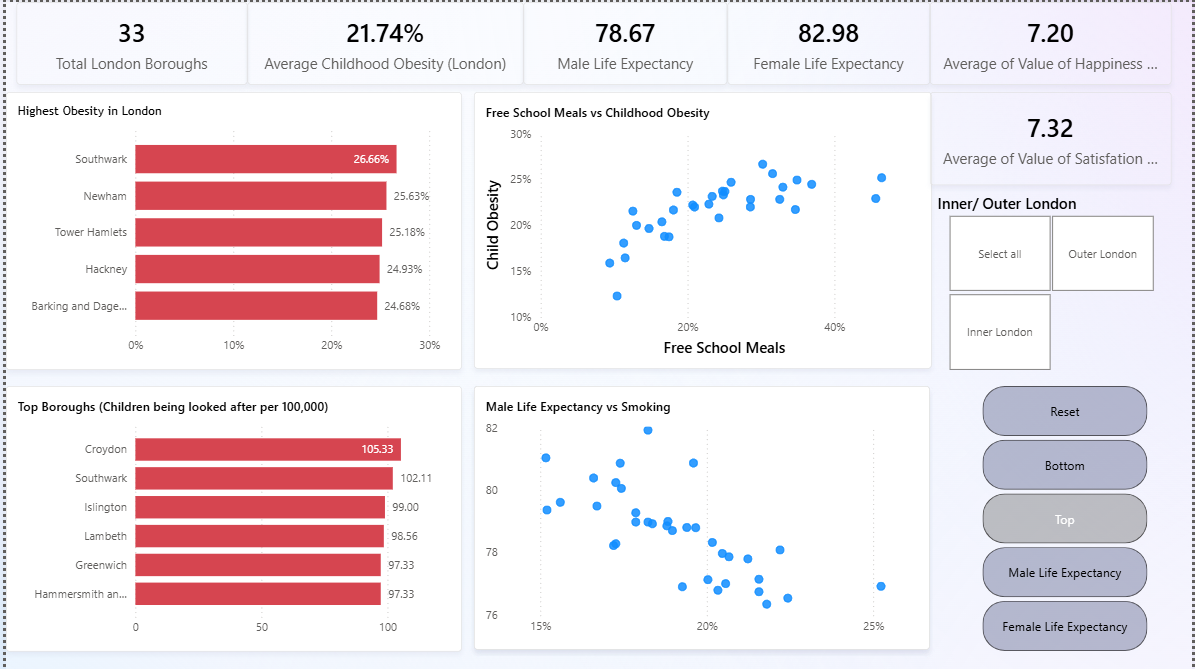

This screenshot's page, from the dashboard's own definition file:
{"tool":"powerbi","page":{"name":"DASHBOARD","canvas":[1280,720],"ordinal":1},"visuals":[{"type":"card","fields":{"Values":["Council Table.Total London Boroughs"]},"box":[11.3,0,249.4,89.1],"z":0},{"type":"card","fields":{"Values":["Main Obesity Table.Average Childhood Obesity (London)"]},"box":[260.7,0,297.9,89.1],"z":1000},{"type":"card","fields":{"Values":["Main Male Life Expectancy.Male Life Expectancy"]},"box":[558.6,0,220.2,89.1],"z":2000},{"type":"card","fields":{"Values":["Main Female Life Expectancy.Female Life Expectancy"]},"box":[778.8,0,218.6,89.1],"z":3000},{"type":"clusteredBarChart","title":"Highest Obesity in London","fields":{"Category":["Council Table.Area name"],"Y":["Avg(Main Obesity Table.Percentage of Obesity)"]},"box":[0,97.1,491.9,299.9],"z":4000},{"type":"scatterChart","title":"Free School Meals vs  Childhood Obesity ","fields":{"Category":["Council Table.Area name"],"X":["Avg(% pupil eligible and on FCM.Percentage)"],"Y":["Main Obesity Table.Average Childhood Obesity (London)"]},"box":[505.9,97.5,493.7,298.7],"z":7000},{"type":"slicer","fields":{"Values":["Council Table.Inner/ Outer London"]},"box":[997.6,205.2,260.1,193],"z":8000},{"type":"card","fields":{"Values":["Avg(Life Satisfaction Score.Value of Satisfation Score)"]},"box":[997.4,97.2,260.7,100.4],"z":10000},{"type":"clusteredBarChart","title":"Top Boroughs (Children being looked after per 100,000)","fields":{"Category":["Rates of Children Looked After.Area name"],"Y":["Avg(Rates of Children Looked After.Children Looked after Per 100,000)"]},"box":[0,414.5,492.2,286.6],"z":11000},{"type":"card","fields":{"Values":["Avg(Happiness Score.Value of Happiness out of 10)"]},"box":[997.4,0,260.7,89.1],"z":13000},{"type":"scatterChart","title":"Female Life Expectancy vs Smoking","fields":{"Category":["Council Table.Area name"],"X":["Avg(% of Cigarette Smokers.Percentage of Smokers)"],"Y":["Main Female Life Expectancy.Female Life Expectancy"]},"box":[505.2,414.5,492.2,285],"z":14000},{"type":"scatterChart","title":"Male Life Expectancy vs Smoking ","fields":{"Category":["Council Table.Area name"],"X":["Avg(% of Cigarette Smokers.Percentage of Smokers)"],"Y":["Main Male Life Expectancy.Male Life Expectancy (Avg)"]},"box":[505.2,414.5,492.2,285],"z":15000},{"type":"bookmarkNavigator","box":[1054.5,414.5,178.8,286.5],"z":20001}]}

Visuals, with their boxes in screenshot pixels (x1, y1, x2, y2), scaled from the page's 1280x720 canvas onto the 1195x669 screenshot:
card - Council Table.Total London Boroughs: [11,0,243,83]
card - Main Obesity Table.Average Childhood Obesity (London): [243,0,522,83]
card - Main Male Life Expectancy.Male Life Expectancy: [522,0,727,83]
card - Main Female Life Expectancy.Female Life Expectancy: [727,0,931,83]
"Highest Obesity in London" clusteredBarChart: [0,90,459,369]
"Free School Meals vs  Childhood Obesity " scatterChart: [472,91,933,368]
slicer - Council Table.Inner/ Outer London: [931,191,1174,370]
card - Avg(Life Satisfaction Score.Value of Satisfation Score): [931,90,1175,184]
"Top Boroughs (Children being looked after per 100,000)" clusteredBarChart: [0,385,460,651]
card - Avg(Happiness Score.Value of Happiness out of 10): [931,0,1175,83]
"Female Life Expectancy vs Smoking" scatterChart: [472,385,931,650]
"Male Life Expectancy vs Smoking " scatterChart: [472,385,931,650]
bookmarkNavigator: [984,385,1151,651]
